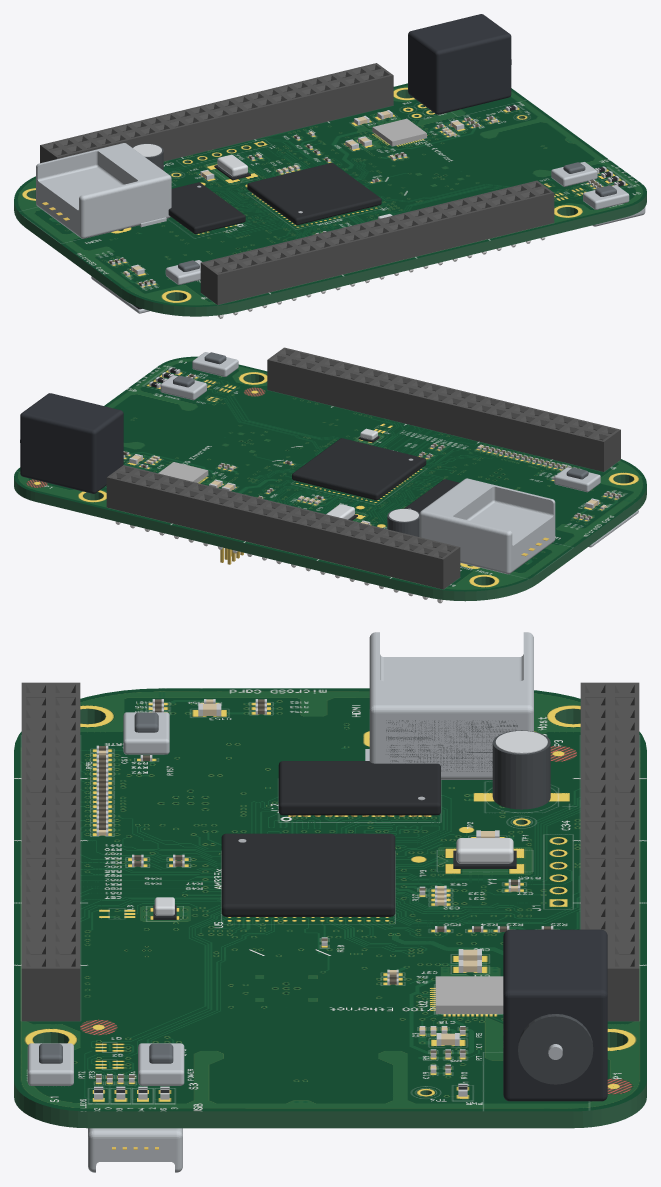
The model's file is minimal-board.glb.
The picture shows the model from 3 angles, top to bottom: view 1: azimuth 30°, elevation 25°; view 2: azimuth 150°, elevation 25°; view 3: azimuth 270°, elevation 25°; orthographic projection. The views are drawn at different scales.
Visible parts, largest first — view 1: Box0, P8, P9, P3, P1, U5, U12, U2, S1, S3, S2, Y1 (+1 smaller); view 2: Box0, P9, P8, P3, P1, U5, S2, S1, S3, C34, U12, U2; view 3: Box0, P8, P1, P9, P3, U5, U12, C34, P4, U2, S2, S3 (+2 smaller).
Boxes of the visible parts, box(x1,y1,x2,y2) form: Box0: box(14, 83, 646, 316); P8: box(200, 180, 554, 318); P9: box(40, 63, 393, 163); P3: box(36, 143, 171, 238); P1: box(408, 14, 511, 114); U5: box(247, 163, 381, 225); U12: box(168, 182, 245, 234); U2: box(372, 118, 426, 146); S1: box(583, 185, 629, 209); S3: box(551, 162, 597, 186); S2: box(165, 260, 201, 284); Y1: box(214, 154, 250, 180); Box0: box(14, 356, 646, 601); P9: box(106, 465, 460, 603); P8: box(267, 347, 620, 471); P3: box(419, 478, 555, 574); P1: box(20, 393, 123, 493); U5: box(292, 438, 426, 500); S2: box(554, 467, 600, 492); S1: box(192, 352, 238, 376); S3: box(160, 375, 206, 400); C34: box(387, 508, 419, 536); U12: box(404, 479, 459, 513); U2: box(158, 462, 208, 482); Box0: box(14, 688, 646, 1128); P8: box(21, 682, 80, 1021); P1: box(503, 929, 607, 1101); P9: box(580, 682, 639, 1021); P3: box(365, 632, 533, 779); U5: box(221, 833, 395, 916); U12: box(278, 761, 440, 816); C34: box(492, 730, 550, 809); P4: box(88, 1128, 182, 1172); U2: box(435, 976, 503, 1013); S2: box(123, 712, 169, 754); S3: box(138, 1043, 184, 1085).
Size of the model in its own units: 87.79 by 18.6 by 54.64.
23 materials, 2 textured.
